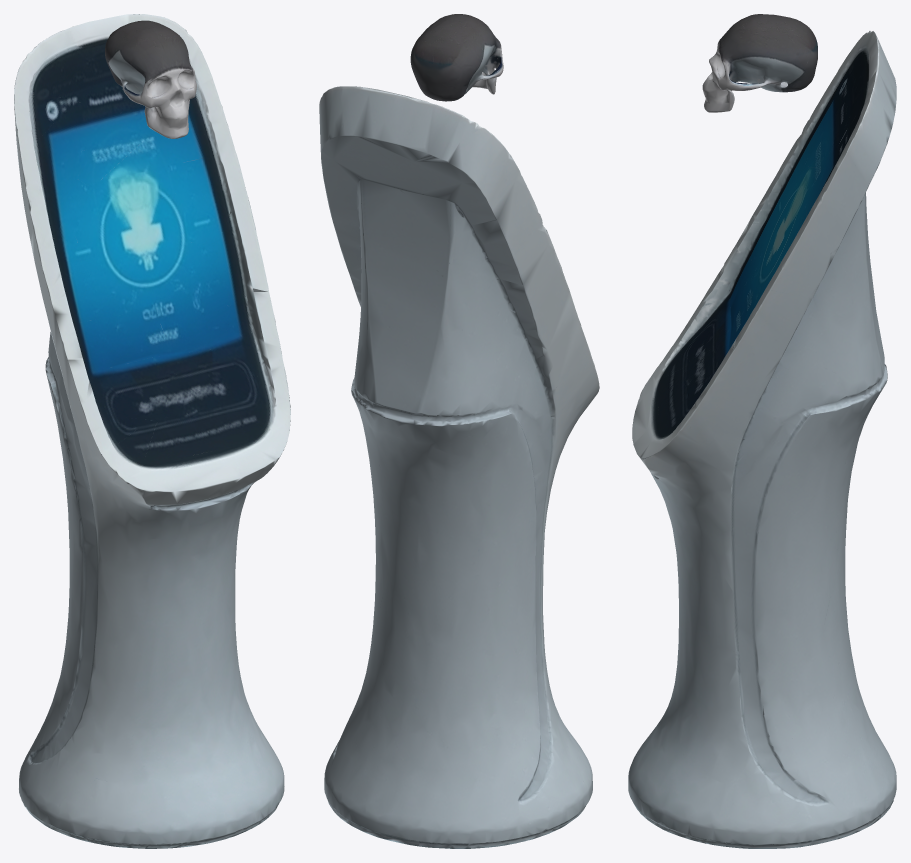
The model's file is Lobby_InfoKiosk.glb.
3 renders of one model, left to right at view 1: azimuth 30°, elevation 25°; view 2: azimuth 150°, elevation 25°; view 3: azimuth 270°, elevation 25°, orthographic.
Size of the model in its own units: 0.5977 by 1.9 by 0.5952.
Materials: 1 (1 with a texture image).
